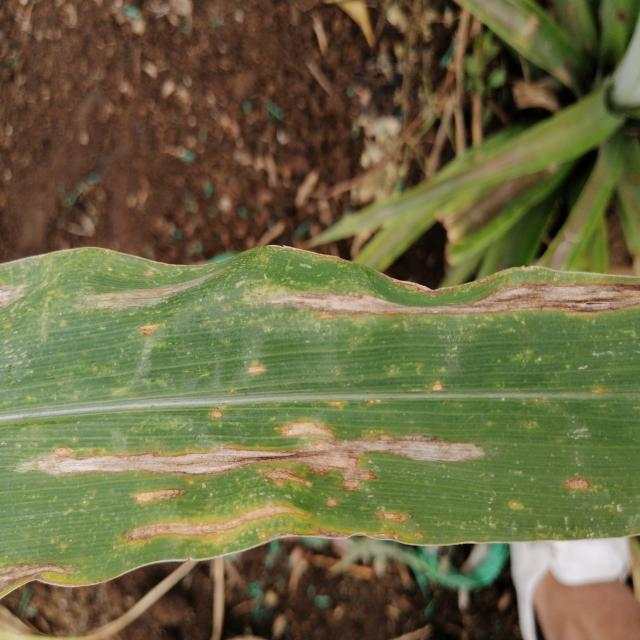Corn_Leaf_Blight: (0, 245, 640, 565)
